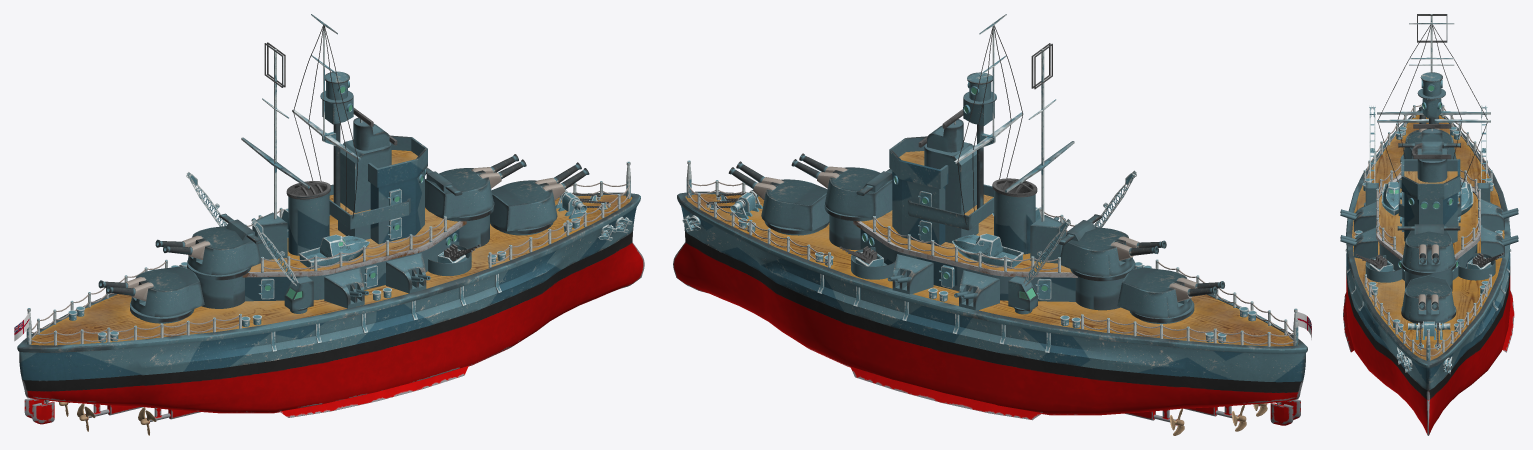
File: ship.glb
The picture shows the model from 3 angles, left to right: view 1: azimuth 30°, elevation 25°; view 2: azimuth 150°, elevation 25°; view 3: azimuth 270°, elevation 25°; orthographic projection. The views are drawn at different scales.
Parts seen in each view (by area): view 1: Object_12, Object_2, Object_5, Object_11, Object_3, Object_10, Object_4; view 2: Object_12, Object_2, Object_5, Object_11, Object_3, Object_10, Object_4; view 3: Object_12, Object_5, Object_3, Object_2, Object_11, Object_4, Object_10, Object_9.
Boxes of the visible parts, x1,y1,x2,y2 form: Object_12: (17,71,640,380); Object_2: (22,232,644,435); Object_5: (26,14,632,351); Object_11: (98,154,589,317); Object_3: (31,150,632,345); Object_10: (125,167,565,301); Object_4: (293,25,358,218); Object_12: (677,72,1307,382); Object_2: (673,231,1303,435); Object_5: (682,14,1298,352); Object_11: (728,153,1224,318); Object_3: (685,151,1298,346); Object_10: (753,166,1197,301); Object_4: (957,25,1022,224); Object_12: (1340,72,1518,390); Object_5: (1345,14,1511,374); Object_3: (1352,115,1504,360); Object_2: (1343,266,1514,435); Object_11: (1397,106,1460,321); Object_4: (1378,24,1487,188); Object_10: (1418,128,1439,310); Object_9: (1387,85,1457,267).
Bounding box in the file's own units: 9.11 × 4.75 × 2.61.
8 materials, 6 textured.
